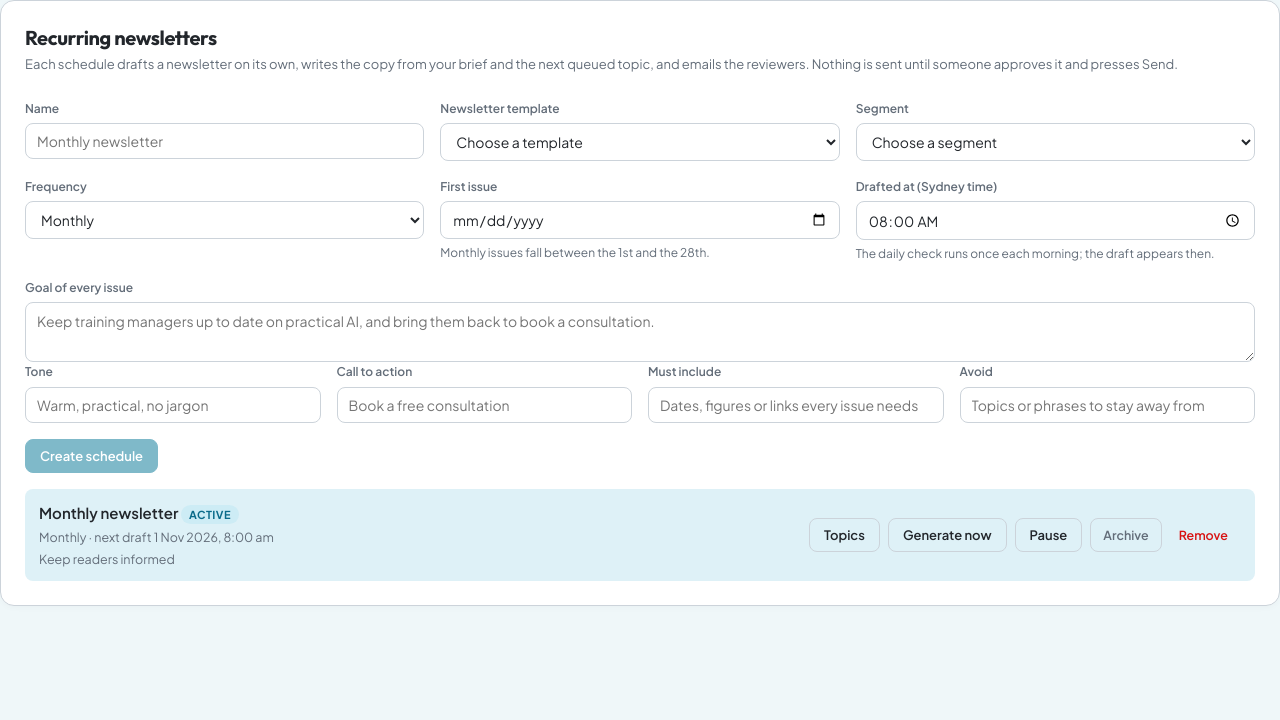
Test: NewsletterSchedules › surfaces a refused run
Click the button with test id "run-schedule-s1" at (947, 535), box x1=888 y1=518 x2=1007 y2=552
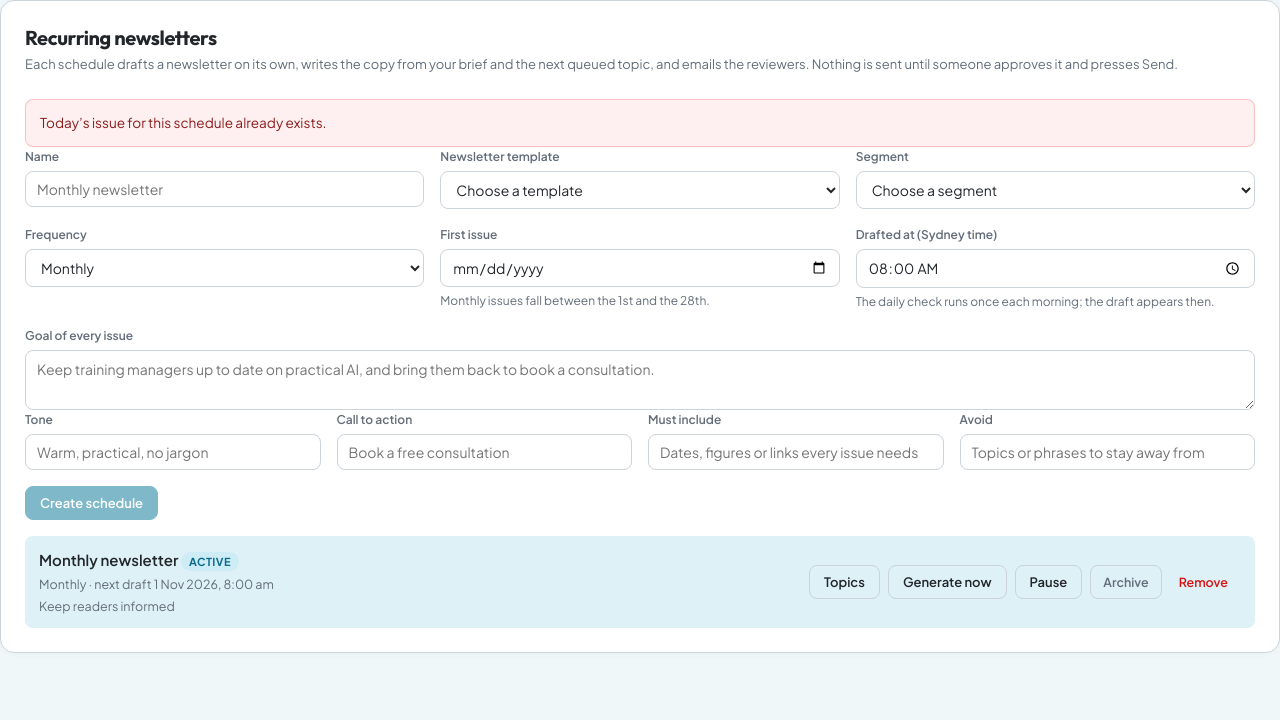
Check: the message shows "already exists", box x1=40 y1=114 x2=326 y2=131
